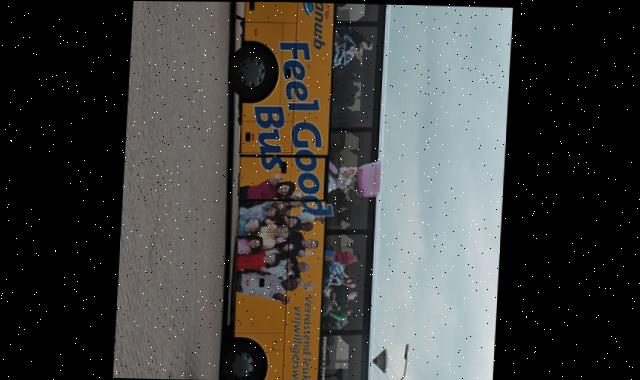bus: (225, 1, 393, 380)
